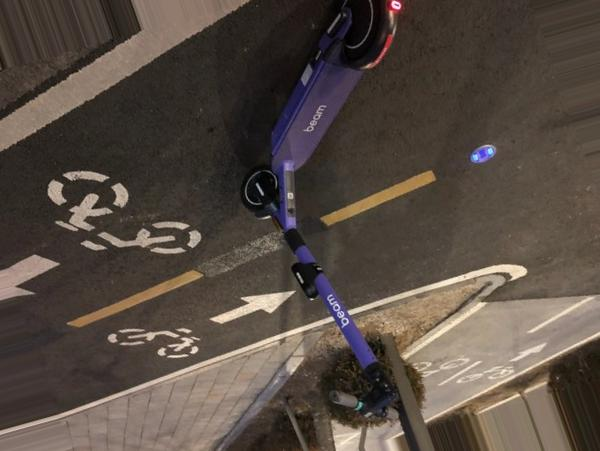scooter: (241, 1, 404, 424)
